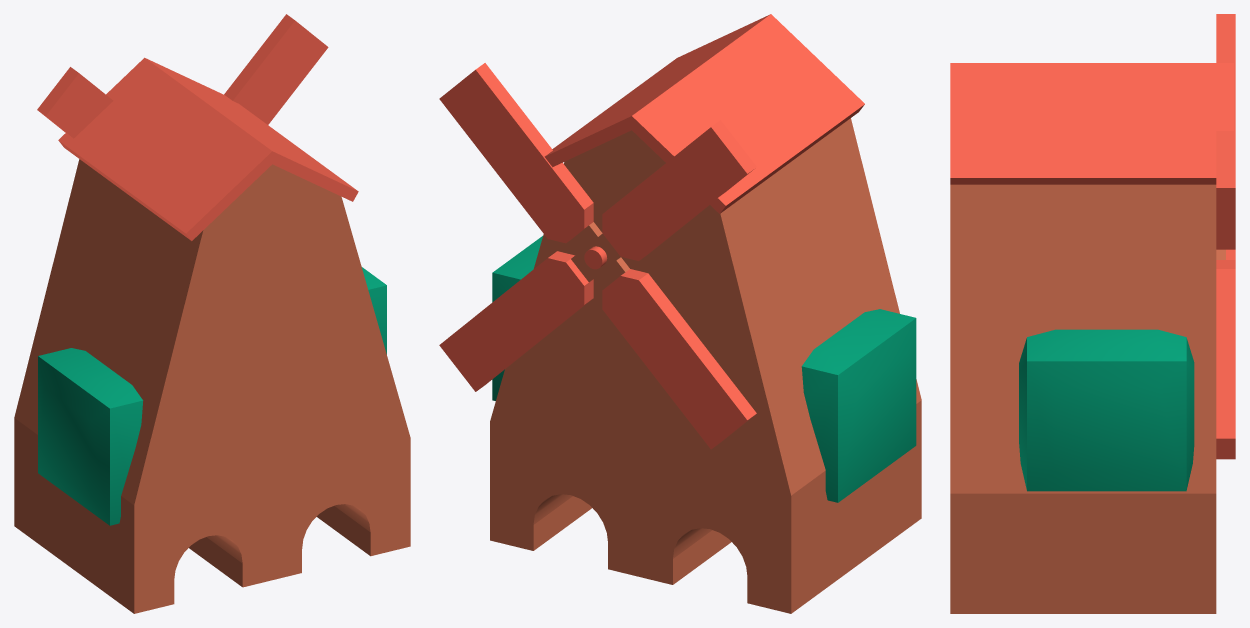
3 views of the same model, side by side, from view 1: azimuth 30°, elevation 25°; view 2: azimuth 150°, elevation 25°; view 3: azimuth 270°, elevation 25° (orthographic). The views are drawn at different scales.
Visible parts, largest first — view 1: mergedBlocks; view 2: mergedBlocks; view 3: mergedBlocks.
Part boxes in pixels (bbox=[...]): mergedBlocks: bbox=[14, 14, 410, 613]; mergedBlocks: bbox=[439, 14, 921, 613]; mergedBlocks: bbox=[950, 14, 1235, 613].
Bounding box in the file's own units: 9.55 × 12.09 × 6.44.
